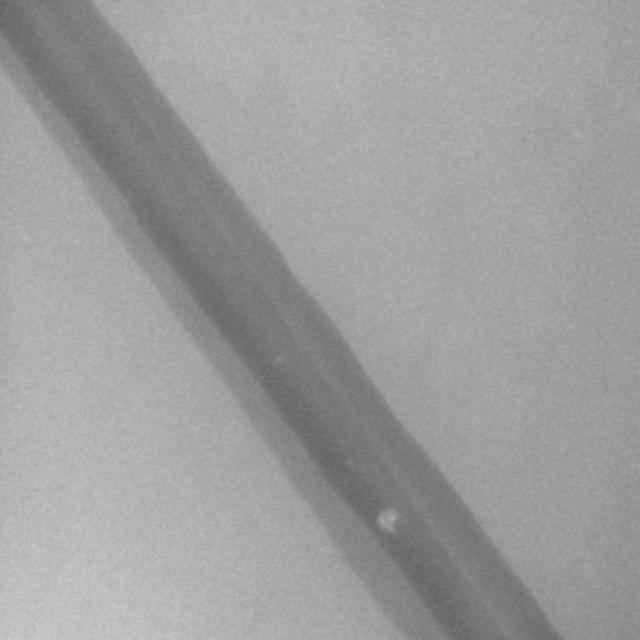air-hole: (377, 512, 399, 533), (272, 356, 282, 365), (351, 460, 353, 462)
